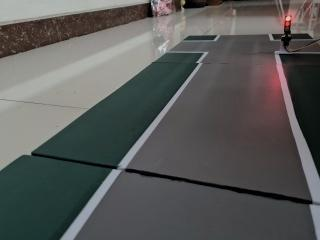red: (280, 10, 296, 43)
